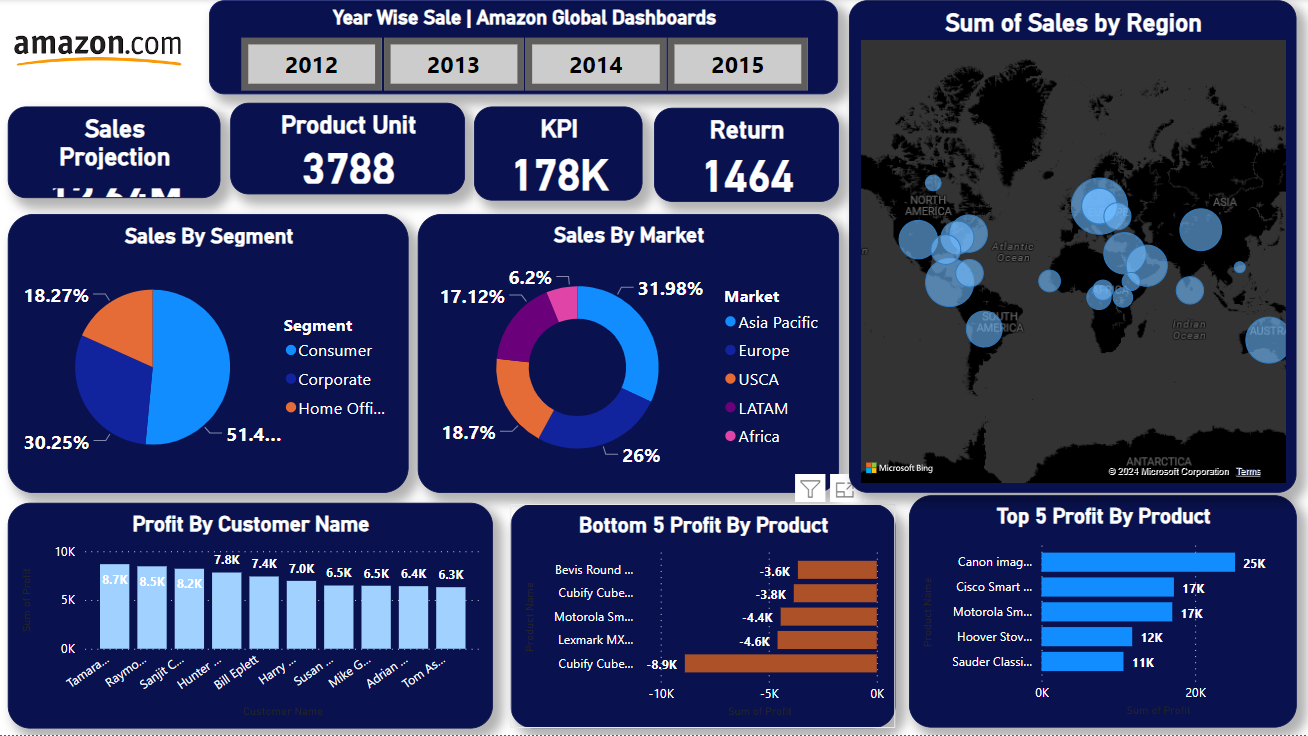

The dashboard page shown, as its layout file describes it:
{"tool":"powerbi","page":{"name":"Page 1","canvas":[1280,720],"ordinal":0},"visuals":[{"type":"card","title":"Sales Projection","fields":{"Values":["Orders.Sales"]},"box":[5.1,111.5,230,90],"z":0},{"type":"card","title":"Product Unit / Quantity","fields":{"Values":["Orders.Quantity"]},"box":[240.3,112.8,224.9,90],"z":1000},{"type":"card","title":"KPI Ratings","fields":{"Values":["Orders.Delivery Days"]},"box":[471.6,114.4,174.8,91.2],"z":2000},{"type":"slicer","title":"Year Wise Sales | Amazon Global Dashboard ","fields":{"Values":["Orders.Year"]},"box":[246.2,12.3,556.1,87.3],"z":3000},{"type":"card","title":"Return","fields":{"Values":["Returns.Return Order"]},"box":[654.1,114.1,154.2,91.2],"z":4000},{"type":"clusteredBarChart","fields":{"Y":["Orders.Profit"],"Category":["Orders.Product Name"]},"box":[913.7,430.5,349.6,269.9],"z":5000},{"type":"clusteredBarChart","title":"Loss by Product Name","fields":{"Y":["Orders.Profit"],"Category":["Orders.Product Name"]},"box":[538.5,430.5,358.6,269.9],"z":6000},{"type":"pieChart","fields":{"Category":["Orders.Segment"],"Y":["Orders.Sales"]},"box":[11.6,212,394.5,208.2],"z":7000},{"type":"donutChart","fields":{"Y":["Orders.Sales"],"Category":["Orders.Market"]},"box":[418.7,211.6,388.8,208.2],"z":8000},{"type":"columnChart","fields":{"Y":["Orders.Profit"],"Category":["Orders.Customer Name"]},"box":[11.6,430.5,514.1,269.9],"z":9000},{"type":"image","box":[4.5,2.2,236.1,111.9],"z":10000},{"type":"map","fields":{"Size":["Orders.Sales"],"Category":["Orders.Region"]},"box":[823,13.3,440.9,406.5],"z":11000}]}

Visuals, with their boxes in screenshot pixels (x1, y1, x2, y2), scaled from the page's 1280x720 canvas onto the 1308x736 screenshot:
"Sales Projection" card: [left=5, top=114, right=240, bottom=206]
"Product Unit / Quantity" card: [left=246, top=115, right=475, bottom=207]
"KPI Ratings" card: [left=482, top=117, right=661, bottom=210]
"Year Wise Sales | Amazon Global Dashboard " slicer: [left=252, top=13, right=820, bottom=102]
"Return" card: [left=668, top=117, right=826, bottom=210]
clusteredBarChart - Orders.Profit x Orders.Product Name: [left=934, top=440, right=1291, bottom=716]
"Loss by Product Name" clusteredBarChart: [left=550, top=440, right=917, bottom=716]
pieChart - Orders.Segment x Orders.Sales: [left=12, top=217, right=415, bottom=430]
donutChart - Orders.Sales x Orders.Market: [left=428, top=216, right=825, bottom=429]
columnChart - Orders.Profit x Orders.Customer Name: [left=12, top=440, right=537, bottom=716]
image: [left=5, top=2, right=246, bottom=117]
map - Orders.Sales x Orders.Region: [left=841, top=14, right=1292, bottom=429]
